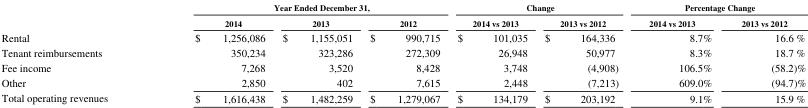table: (0, 1, 805, 104)
table column: (0, 1, 150, 104), (150, 1, 273, 104), (535, 1, 633, 104), (633, 1, 725, 104), (360, 1, 448, 104), (273, 1, 360, 104), (448, 1, 535, 104), (725, 1, 805, 104)
table column header: (0, 1, 805, 28)
table row: (0, 28, 805, 44), (0, 44, 805, 59), (0, 59, 805, 74), (0, 74, 805, 89), (0, 89, 805, 104), (0, 14, 805, 28), (0, 1, 805, 14)
table spanning cell: (150, 1, 448, 14), (448, 1, 633, 14), (633, 1, 805, 14)
